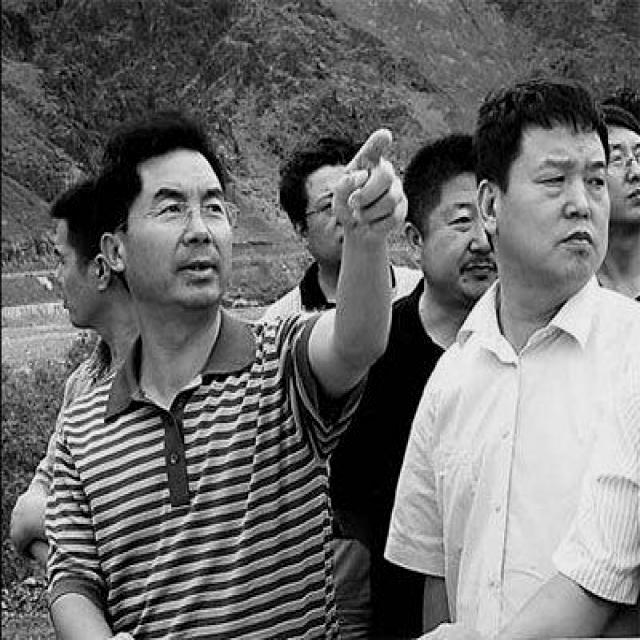face_nomask: (146, 192, 243, 288), (524, 165, 609, 266), (438, 201, 508, 286), (607, 143, 640, 213), (48, 247, 81, 317)
glasses: (144, 196, 243, 234)
hand_noglove: (327, 122, 413, 256)
head_nohelmet: (485, 79, 606, 156), (112, 114, 235, 189), (416, 131, 503, 197)
person: (42, 99, 347, 640), (387, 80, 640, 640)
